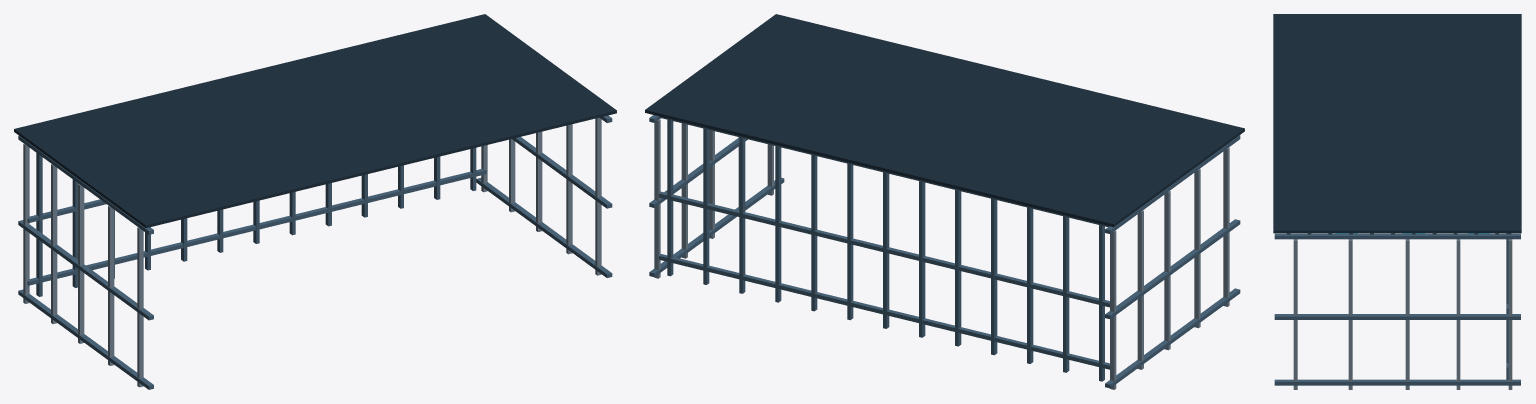
The model's file is 01_L82_SemiAnechoicShieldedHall.fbx.
3 views of the same model, side by side, from view 1: azimuth 30°, elevation 25°; view 2: azimuth 150°, elevation 25°; view 3: azimuth 270°, elevation 25° (orthographic). The views are drawn at different scales.
Visible parts, largest first — view 1: SemiAnechoicShieldedHall; view 2: SemiAnechoicShieldedHall; view 3: SemiAnechoicShieldedHall.
Boxes of the visible parts, left/top/right/bottom form: SemiAnechoicShieldedHall: left=14, top=14, right=616, bottom=389; SemiAnechoicShieldedHall: left=645, top=14, right=1244, bottom=389; SemiAnechoicShieldedHall: left=1273, top=14, right=1521, bottom=389.
Size of the model in its own units: 2520 by 874 by 1220.
